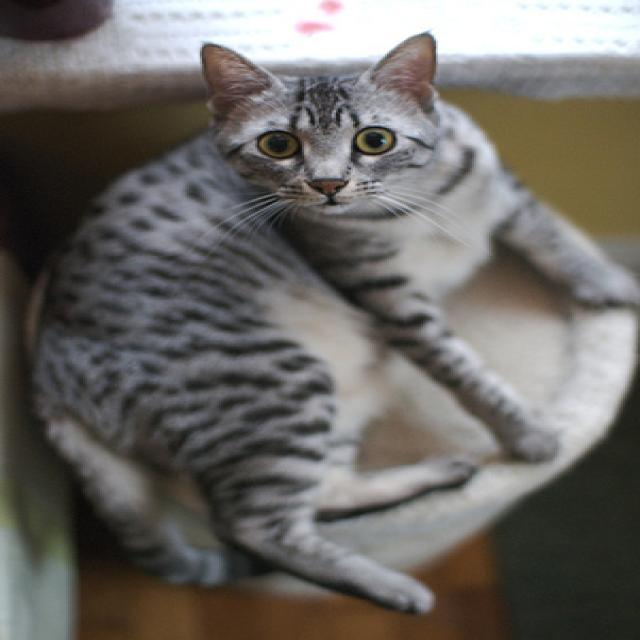Egyptian Mau: (23, 24, 640, 620)
